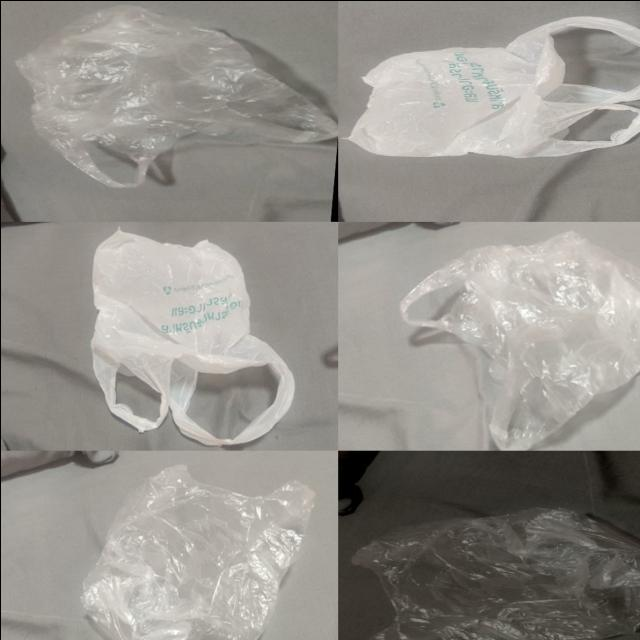plastik: (16, 4, 336, 186), (399, 231, 640, 449), (90, 229, 294, 445), (348, 16, 640, 156), (82, 464, 313, 640), (352, 508, 640, 640)
